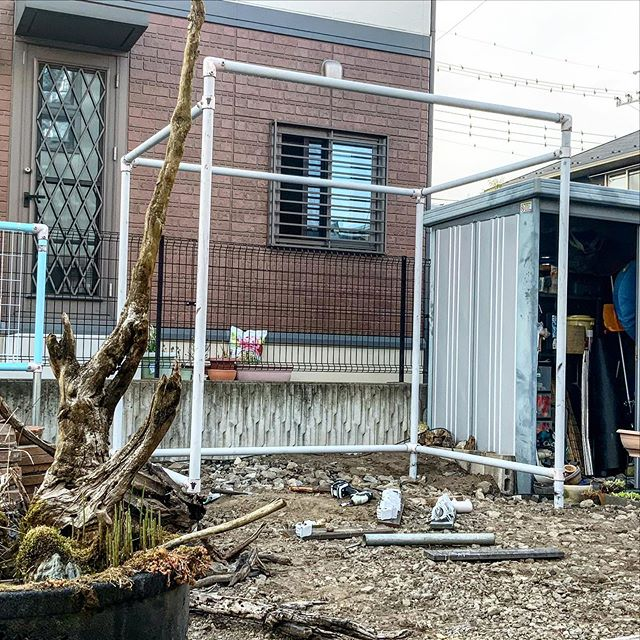building: (1, 1, 426, 351)
sky: (432, 1, 640, 188)
tree trunk: (1, 246, 204, 601)
